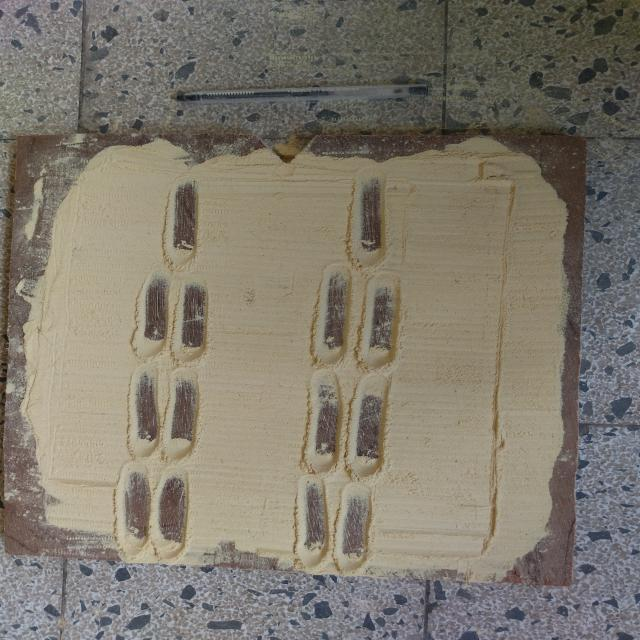double: (306, 262, 410, 372), (303, 370, 397, 480), (111, 463, 198, 567), (129, 267, 215, 368), (121, 362, 206, 462), (294, 477, 378, 576)
single: (342, 164, 398, 274), (158, 174, 210, 274)
